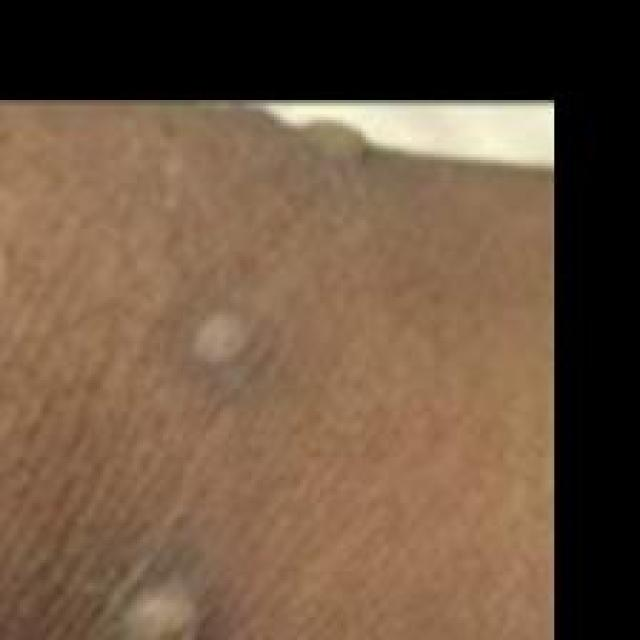monkeypox: (8, 108, 548, 640)
